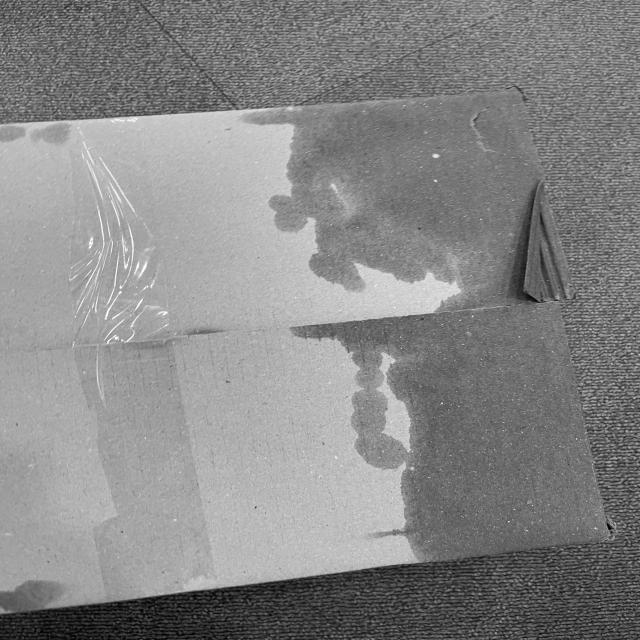wet: (309, 86, 623, 568)
